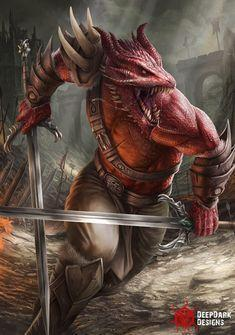espada: (0, 194, 234, 251), (5, 36, 64, 208), (34, 220, 49, 334)
